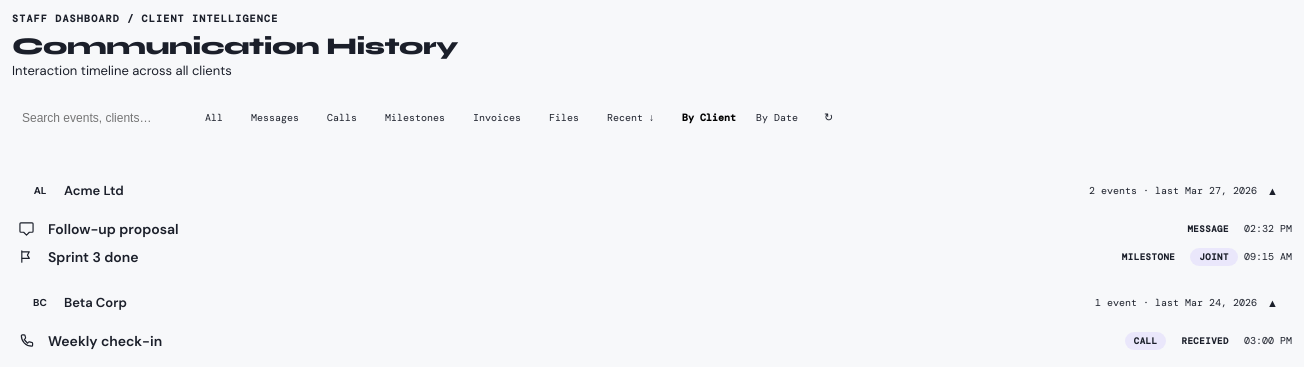
Test case: CommunicationHistoryPage — filter bar › clicking active type pill again resets to All
This screenshot has width=1304, height=367.
Expected: the text "Acme Ltd" is shown, [64, 182, 124, 199]
Click the button "Calls": (342, 118) [317, 108, 367, 127]
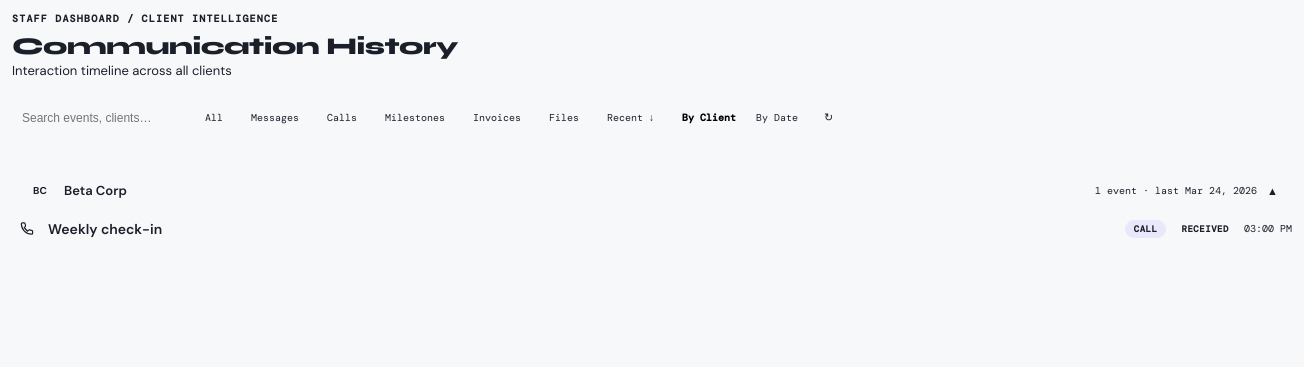
Click the button "Calls": (342, 118) [317, 108, 367, 127]
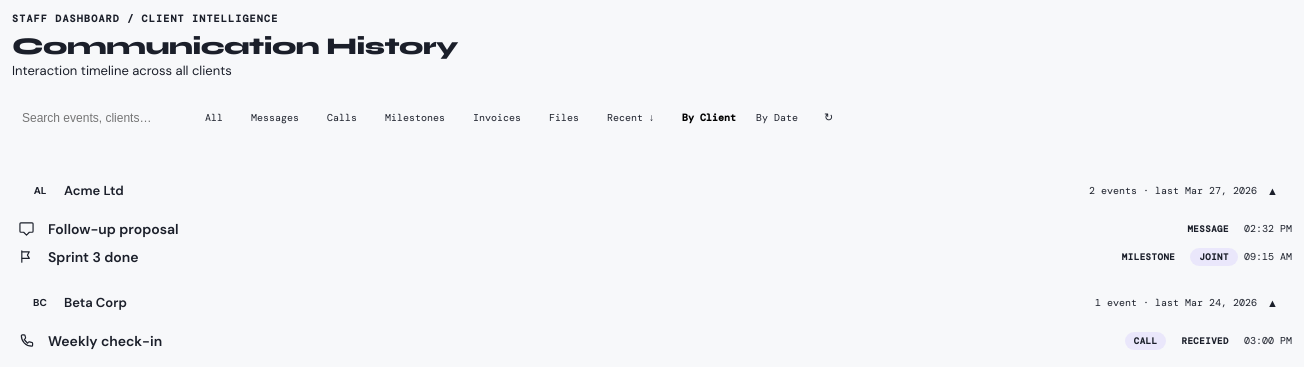
Expected: the text "Follow-up proposal" is shown, [48, 220, 179, 238]
